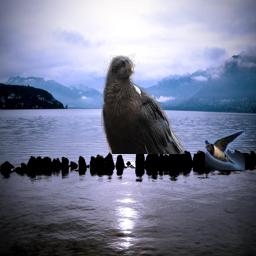Crow: (101, 55, 186, 154)
Swallow: (205, 130, 245, 170)
